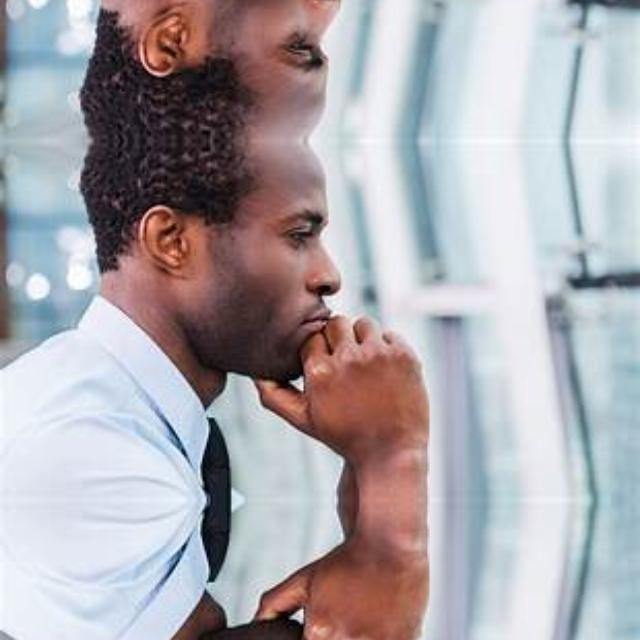person: (62, 140, 428, 498), (62, 499, 427, 640), (62, 0, 427, 140)
